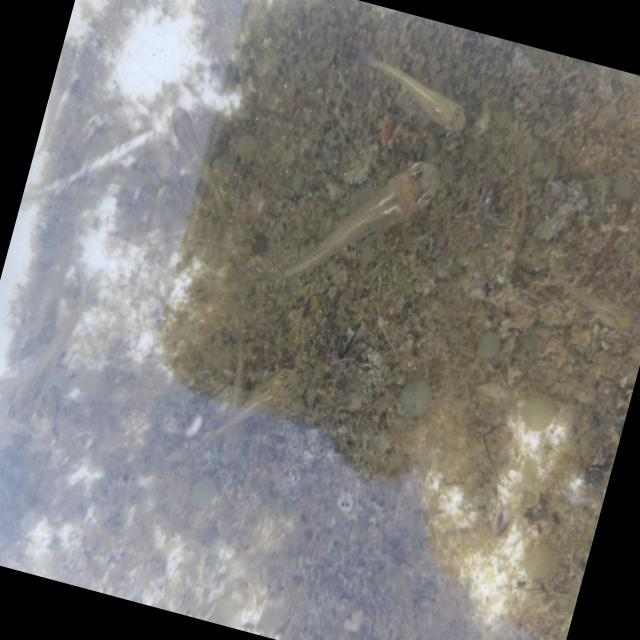Sivrisinek Baligi: (256, 120, 454, 322), (179, 330, 312, 473), (0, 271, 93, 459), (346, 40, 484, 147)
